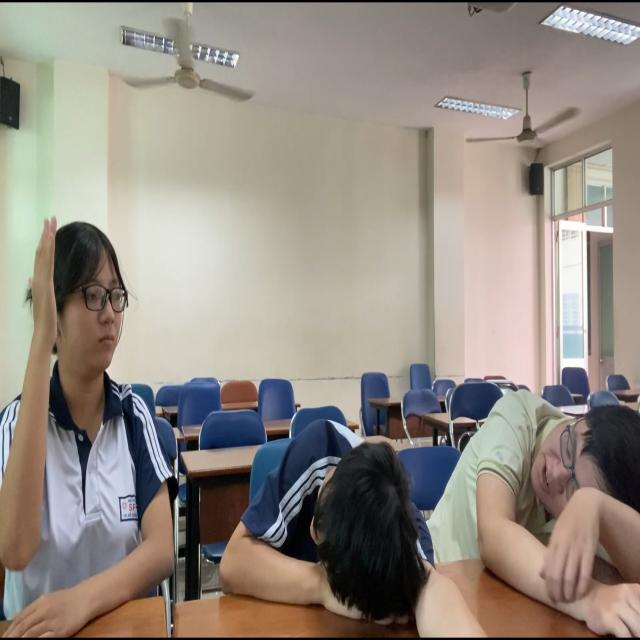raise_hand: (1, 216, 178, 640)
sleep: (223, 398, 438, 625), (436, 366, 640, 585)
